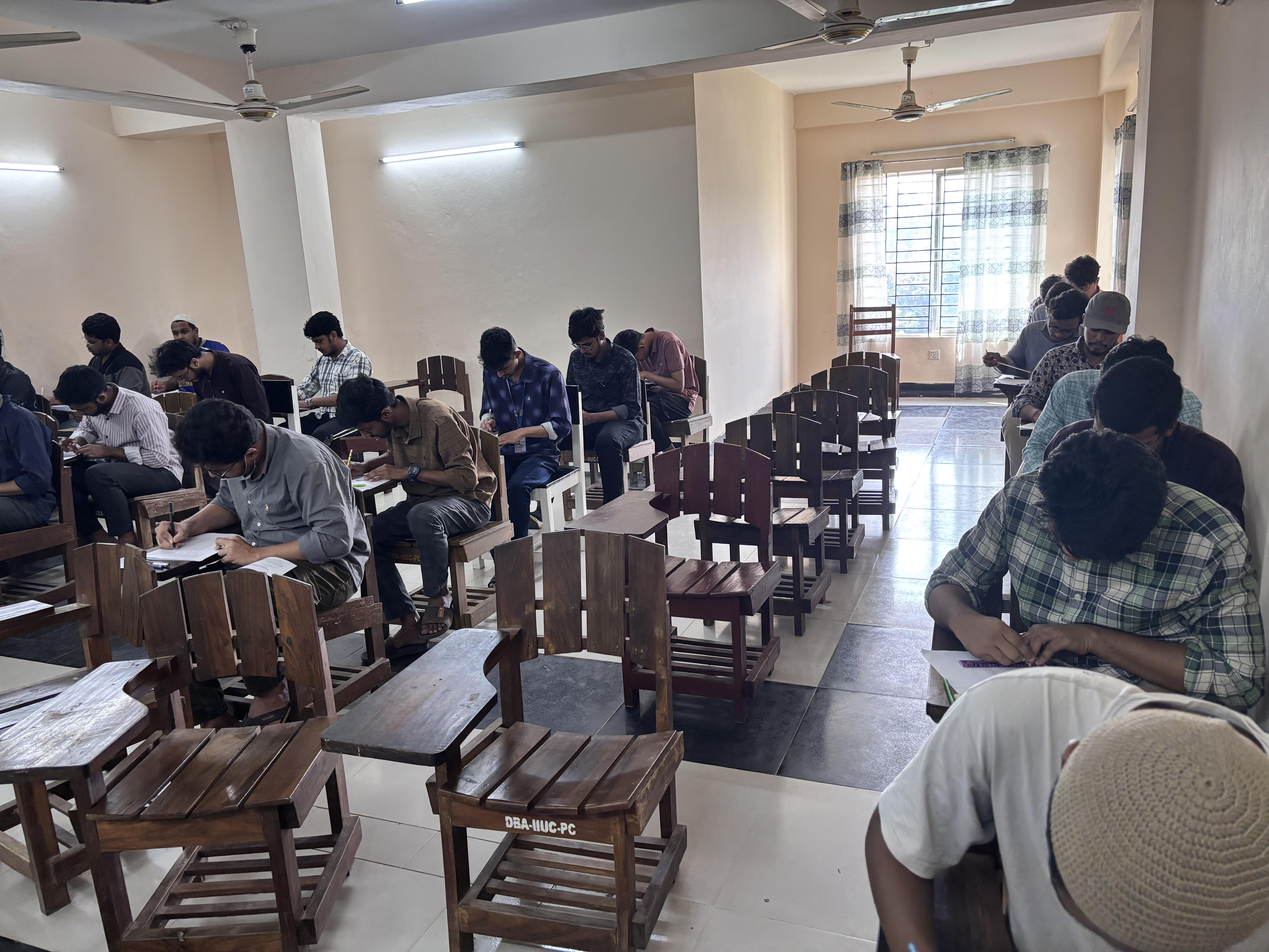no_cheating: (912, 442, 1269, 742), (149, 397, 365, 663), (322, 376, 489, 636), (1050, 375, 1248, 544), (453, 314, 572, 543), (1032, 286, 1177, 442), (46, 366, 184, 528), (539, 288, 635, 506), (291, 308, 394, 448), (618, 309, 702, 456), (137, 342, 271, 414), (1008, 278, 1098, 385), (57, 309, 158, 401)
suspicious_moving: (160, 307, 236, 355)
